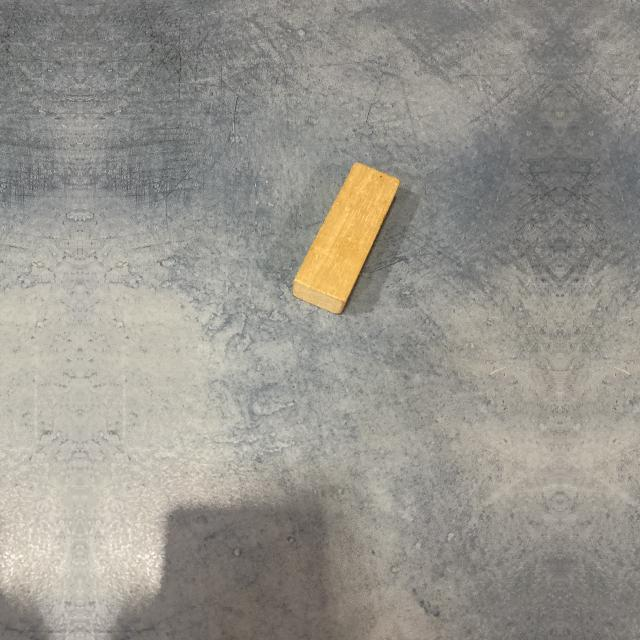jenga: (292, 160, 402, 315)
